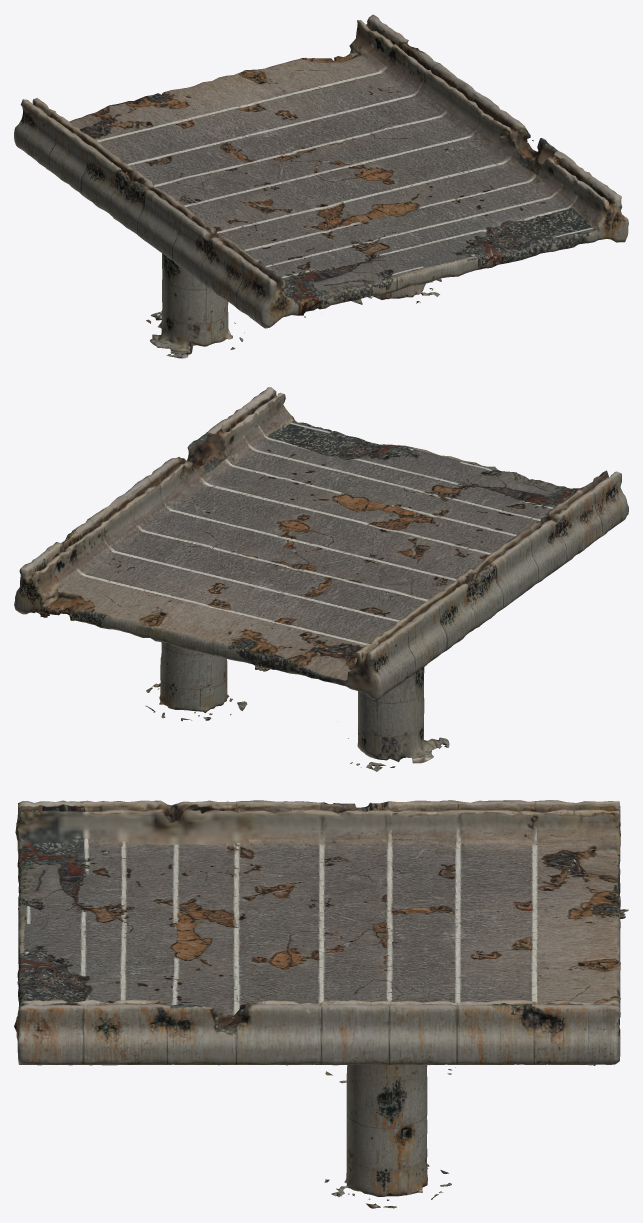
Rendered from Overpass_Deck.glb.
3 renders of one model, top to bottom at view 1: azimuth 30°, elevation 25°; view 2: azimuth 150°, elevation 25°; view 3: azimuth 270°, elevation 25°, orthographic. The views are drawn at different scales.
Visible parts, largest first — view 1: texture_mapping; view 2: texture_mapping; view 3: texture_mapping.
Boxes of the visible parts, x1,y1,x2,y2 form: texture_mapping: (14,14,628,358); texture_mapping: (14,387,628,771); texture_mapping: (14,800,628,1208).
Size of the model in its own units: 0.8228 by 0.4008 by 0.9915.
1 material, 1 textured.
